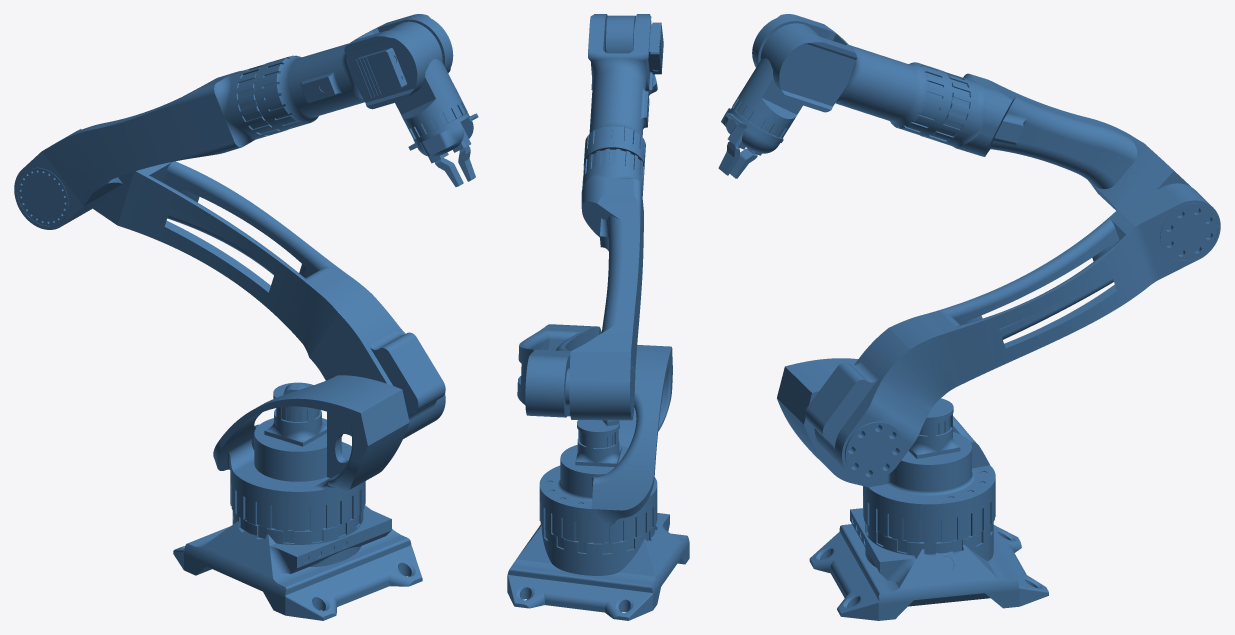
3 views of the same model, side by side, from view 1: azimuth 30°, elevation 25°; view 2: azimuth 150°, elevation 25°; view 3: azimuth 270°, elevation 25° (orthographic). The views are drawn at different scales.
Visible parts, largest first — view 1: ARM___-_BASE__not_moving____-_BASE__rotating____-_ARM__prime (×2), ARM___-_BASE__not_moving____-_BASE__rotating__null_BASE__rot, ARM___-_BASE__not_moving____-_BASE__rotating____-_ARM__prim0 (×5), ARM___-_BASE__not_moving_, ARM___-_BASE__not_moving____-_BASE__rotating____-_ARM__prim, ARM___-_BASE__not_moving____-_BASE__rotating__null_Z_o_enie1; view 2: ARM___-_BASE__not_moving____-_BASE__rotating____-_ARM__prime (×2), ARM___-_BASE__not_moving____-_BASE__rotating__null_BASE__rot, ARM___-_BASE__not_moving_, ARM___-_BASE__not_moving____-_BASE__rotating____-_ARM__prim0 (×3), ARM___-_BASE__not_moving____-_BASE__rotating____-_ARM__prim, ARM___-_BASE__not_moving____-_BASE__rotating__null_Z_o_enie1, ARM___-_BASE__not_moving____-_BASE__rotating__null_Z_o_enie, ARM___-_BASE__not_moving____-_BASE__rotating__null_Z_o_enie0; view 3: ARM___-_BASE__not_moving____-_BASE__rotating____-_ARM__prime (×2), ARM___-_BASE__not_moving____-_BASE__rotating____-_ARM__prim0 (×4), ARM___-_BASE__not_moving_, ARM___-_BASE__not_moving____-_BASE__rotating__null_BASE__rot, ARM___-_BASE__not_moving____-_BASE__rotating____-_ARM__prim, ARM___-_BASE__not_moving____-_BASE__rotating__null_Z_o_enie1.
Boxes of the visible parts, box(x1,y1,x2,y2) form: ARM___-_BASE__not_moving____-_BASE__rotating____-_ARM__prime (×2): box(14, 70, 445, 438); ARM___-_BASE__not_moving____-_BASE__rotating__null_BASE__rot: box(213, 375, 409, 531); ARM___-_BASE__not_moving____-_BASE__rotating____-_ARM__prim0 (×5): box(254, 14, 473, 156); ARM___-_BASE__not_moving_: box(173, 505, 422, 620); ARM___-_BASE__not_moving____-_BASE__rotating____-_ARM__prim: box(233, 64, 287, 136); ARM___-_BASE__not_moving____-_BASE__rotating__null_Z_o_enie1: box(264, 409, 326, 446); ARM___-_BASE__not_moving____-_BASE__rotating____-_ARM__prime (×2): box(517, 167, 643, 420); ARM___-_BASE__not_moving____-_BASE__rotating__null_BASE__rot: box(539, 345, 672, 543); ARM___-_BASE__not_moving_: box(507, 513, 689, 620); ARM___-_BASE__not_moving____-_BASE__rotating____-_ARM__prim0 (×3): box(583, 14, 663, 166); ARM___-_BASE__not_moving____-_BASE__rotating____-_ARM__prim: box(582, 148, 644, 184); ARM___-_BASE__not_moving____-_BASE__rotating__null_Z_o_enie1: box(575, 438, 621, 466); ARM___-_BASE__not_moving____-_BASE__rotating__null_Z_o_enie: box(577, 420, 619, 448); ARM___-_BASE__not_moving____-_BASE__rotating__null_Z_o_enie0: box(579, 431, 614, 448); ARM___-_BASE__not_moving____-_BASE__rotating____-_ARM__prime (×2): box(805, 73, 1220, 481); ARM___-_BASE__not_moving____-_BASE__rotating____-_ARM__prim0 (×4): box(721, 14, 952, 153); ARM___-_BASE__not_moving_: box(809, 508, 1048, 620); ARM___-_BASE__not_moving____-_BASE__rotating__null_BASE__rot: box(777, 358, 995, 542); ARM___-_BASE__not_moving____-_BASE__rotating____-_ARM__prim: box(920, 72, 973, 143); ARM___-_BASE__not_moving____-_BASE__rotating__null_Z_o_enie1: box(908, 427, 960, 458).
Bounding box in the file's own units: 0.3317 × 0.6998 × 0.558.
